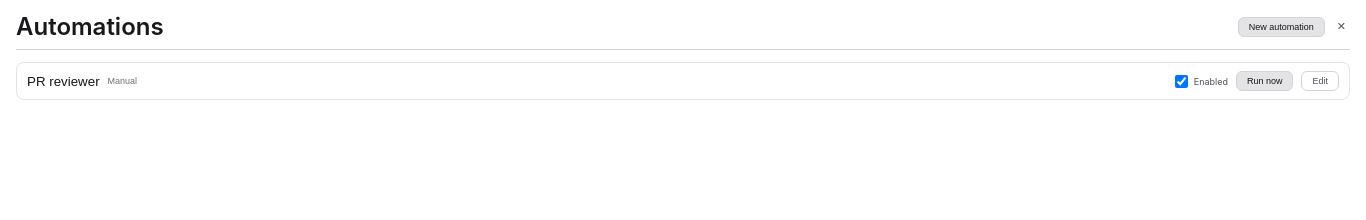
Test: AutomationsPanel › refetches the selected definition's runs when changedTick bumps, so a newly delivered run appears without re-selecting
Click the text "PR reviewer" at (63, 81), box [27,74,100,88]
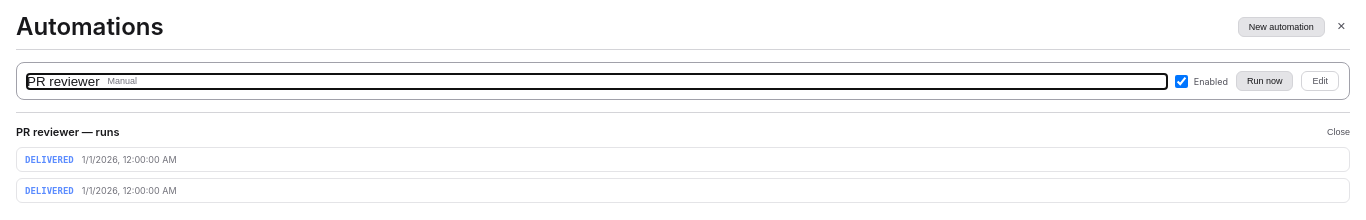
Now the 1st list item with test id "automation-run-row" is shown, box [16,147,1350,172]
Now the number of list items with test id "automation-run-row" is 2, box [16,147,1350,172]; [16,178,1350,203]
